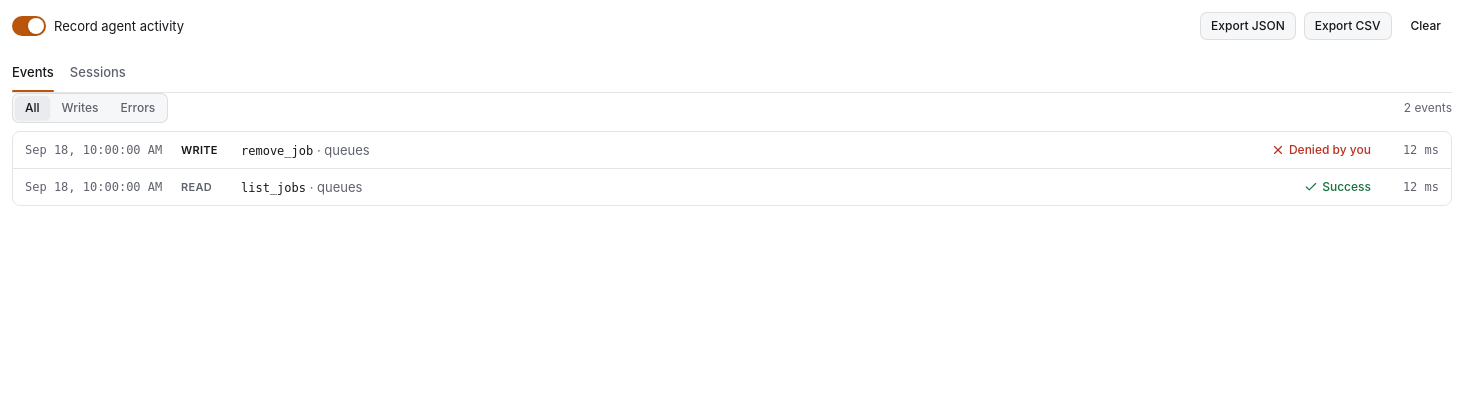
Test: McpActivityPanel › lists reads and writes with an outcome that is more than a color
Expected: the element with test id "activity-status-denied" reads "Denied by you", left=1289, top=142, right=1371, bottom=157
Expected: the list item with test id "activity-event-e1" shows "Success", left=13, top=169, right=1451, bottom=205
Note: Detail: error, approval, arguments.
Click the 4th button at (94, 150), box left=13, top=132, right=1451, bottom=168
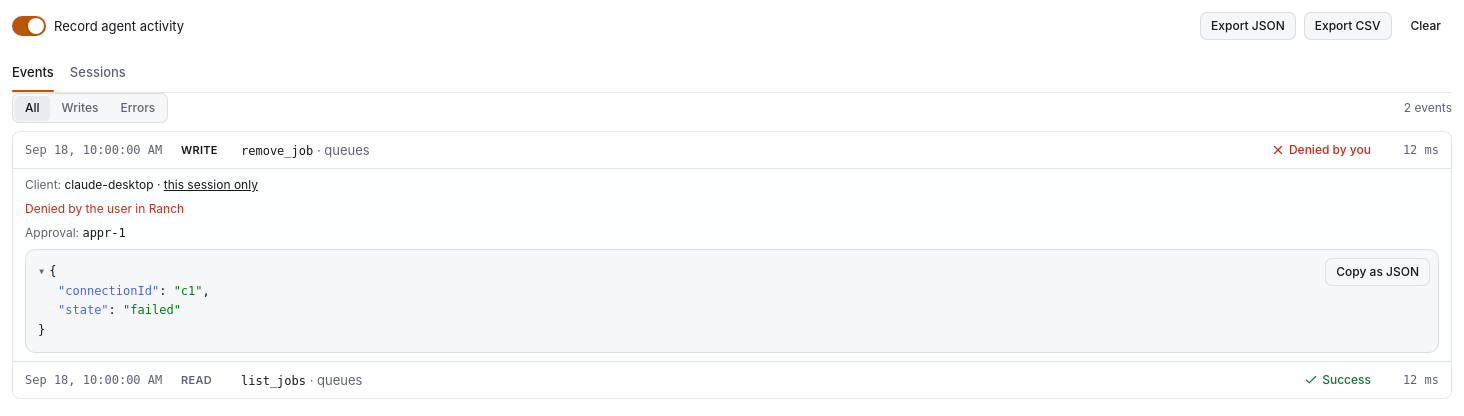
Expected: the list item with test id "activity-event-e2" shows "Denied by the user in Ranch", left=25, top=201, right=184, bottom=216
Expected: the list item with test id "activity-event-e2" shows "appr-1", left=82, top=226, right=126, bottom=240
